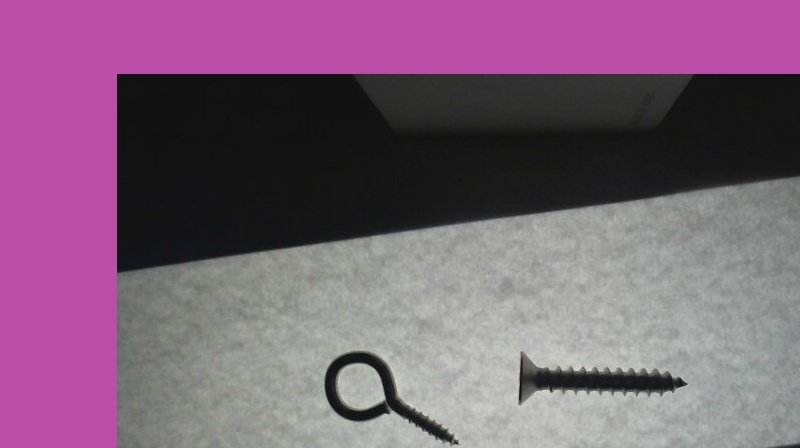O001: (323, 353, 458, 446)
S001: (514, 349, 690, 406)
